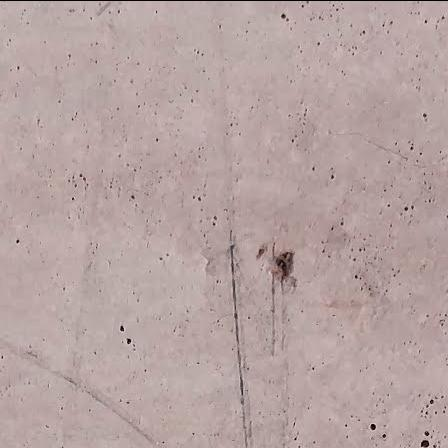crack: (323, 120, 448, 177)
spalling: (267, 247, 302, 295)
